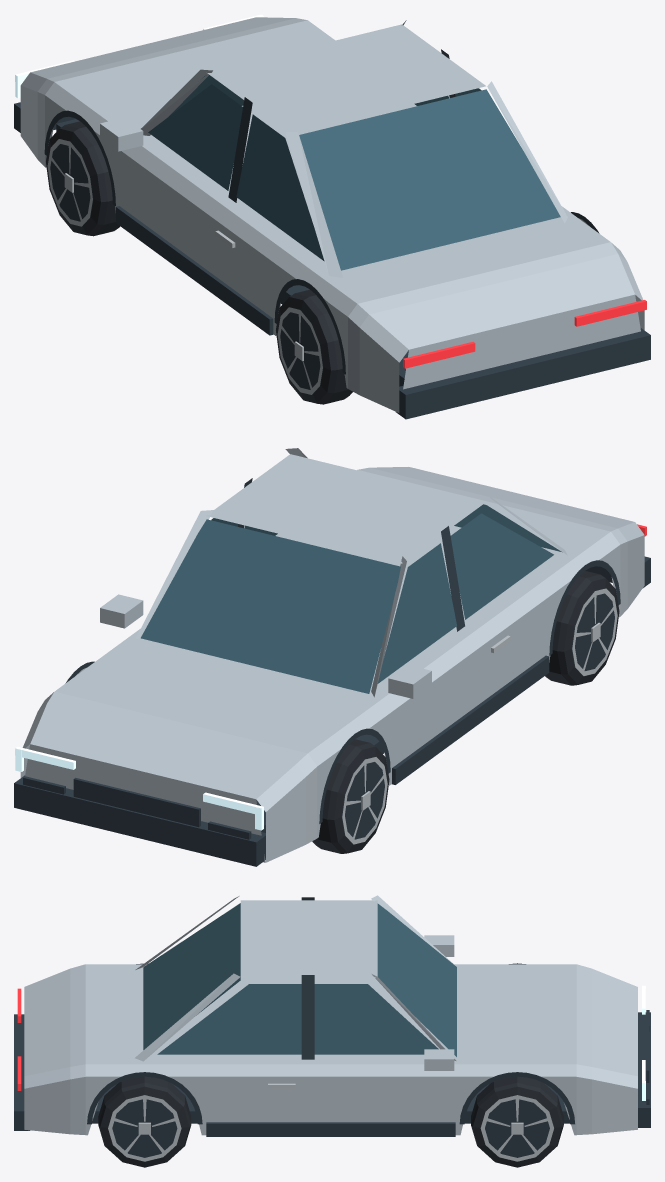
The model's file is meridian_s.glb.
The picture shows the model from 3 angles, top to bottom: view 1: azimuth 30°, elevation 25°; view 2: azimuth 150°, elevation 25°; view 3: azimuth 270°, elevation 25°; orthographic projection. The views are drawn at different scales.
Parts seen in each view (by area): view 1: Body, Wheel_2, Wheel_0; view 2: Body, Wheel_0, Wheel_2; view 3: Body, Wheel_3, Wheel_1.
Boxes of the visible parts, x1,y1,x2,y2 form: Body: (14, 14, 650, 419); Wheel_2: (276, 289, 352, 404); Wheel_0: (46, 121, 120, 236); Body: (14, 448, 650, 866); Wheel_0: (312, 739, 389, 853); Wheel_2: (545, 571, 619, 685); Body: (14, 895, 650, 1136); Wheel_3: (98, 1076, 191, 1167); Wheel_1: (471, 1076, 563, 1167).
Bounding box in the file's own units: 2.14 × 1.42 × 4.65.
